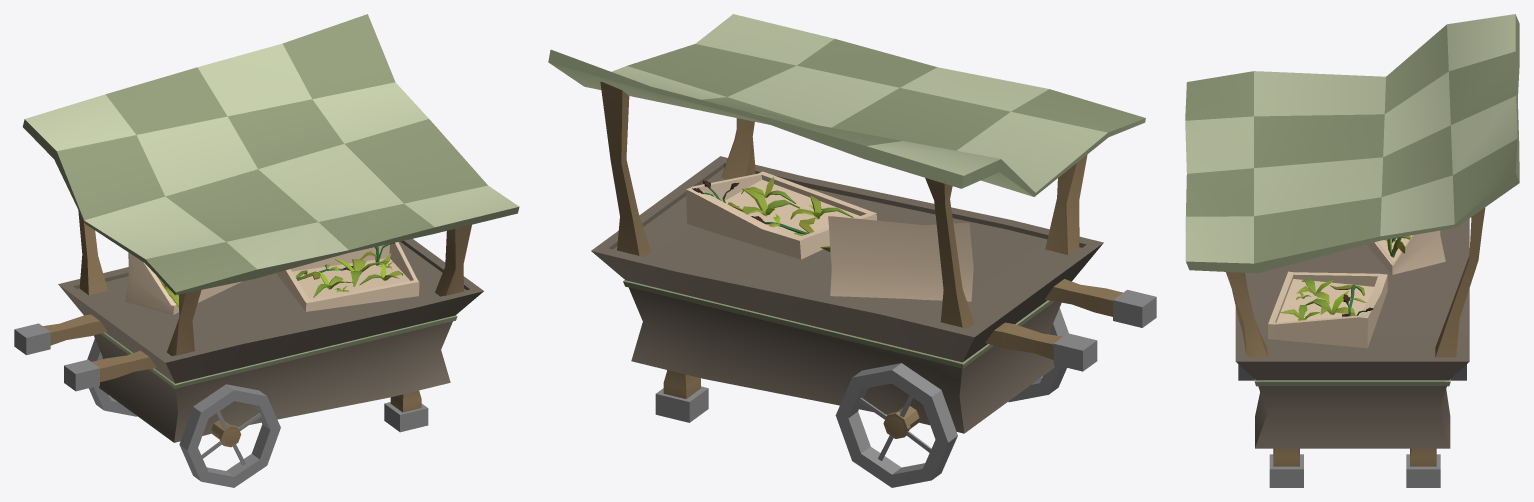
Rendered from Puesto_Venta.fbx.
3 views of the same model, side by side, from view 1: azimuth 30°, elevation 25°; view 2: azimuth 150°, elevation 25°; view 3: azimuth 270°, elevation 25° (orthographic). The views are drawn at different scales.
Visible parts, largest first — view 1: Püesto_Venta_Toldo, Puesto_Venta_Base, Puesto_Venta, Puesto_Venta_Ruedas, Puesto_Venta_Soporte, Puesto_Venta_Detalle_Palo, Puesto_Venta_Palos; view 2: Puesto_Venta_Base, Püesto_Venta_Toldo, Puesto_Venta, Puesto_Venta_Soporte, Puesto_Venta_Ruedas, Puesto_Venta_Detalle_Palo, Puesto_Venta_Palos; view 3: Püesto_Venta_Toldo, Puesto_Venta_Base, Puesto_Venta, Puesto_Venta_Soporte, Puesto_Venta_Detalle_Palo, Puesto_Venta_Palos, Palurdo_06:Palurdo_06.
Part boxes in pixels (x1,y1,x2,y2): Püesto_Venta_Toldo: [22, 14, 519, 295]; Puesto_Venta_Base: [58, 238, 483, 442]; Puesto_Venta: [125, 242, 419, 314]; Puesto_Venta_Ruedas: [87, 338, 280, 487]; Puesto_Venta_Soporte: [78, 210, 471, 355]; Puesto_Venta_Detalle_Palo: [14, 323, 428, 432]; Puesto_Venta_Palos: [43, 314, 421, 412]; Puesto_Venta_Base: [591, 156, 1103, 433]; Püesto_Venta_Toldo: [548, 14, 1145, 196]; Puesto_Venta: [686, 171, 973, 301]; Puesto_Venta_Soporte: [600, 81, 1087, 328]; Puesto_Venta_Ruedas: [835, 308, 1068, 487]; Puesto_Venta_Detalle_Palo: [655, 289, 1156, 422]; Puesto_Venta_Palos: [663, 279, 1122, 398]; Püesto_Venta_Toldo: [1185, 14, 1519, 273]; Puesto_Venta_Base: [1235, 218, 1469, 448]; Puesto_Venta: [1268, 230, 1445, 348]; Puesto_Venta_Soporte: [1226, 207, 1485, 357]; Puesto_Venta_Detalle_Palo: [1269, 454, 1440, 487]; Puesto_Venta_Palos: [1273, 448, 1436, 466]; Palurdo_06:Palurdo_06: [1305, 291, 1355, 315].
Bounding box in the file's own units: 9.32 × 7.09 × 6.25.
